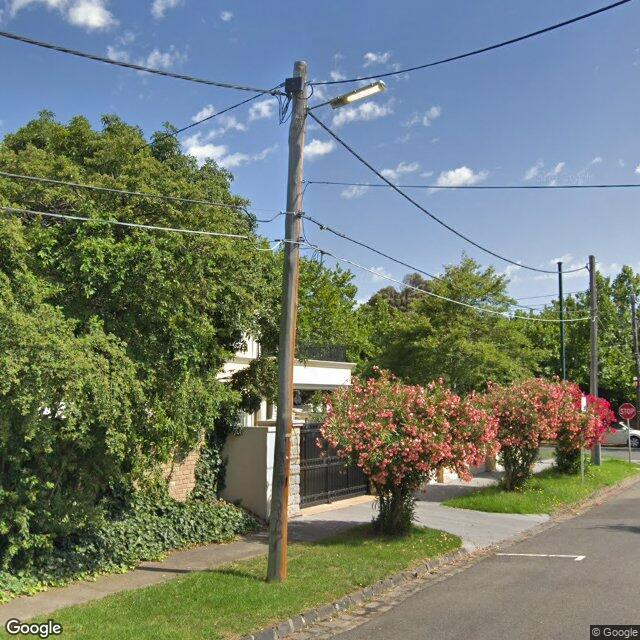streetlight: (308, 78, 388, 116)
timber-pole: (264, 60, 310, 581), (588, 254, 598, 397), (630, 293, 640, 369)
